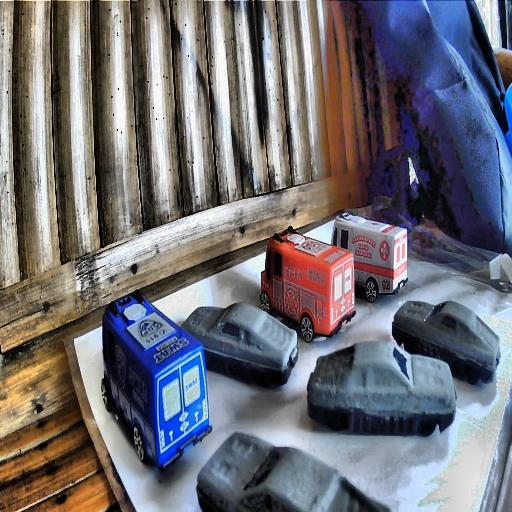ambulance: (332, 212, 408, 301)
fire_truck: (260, 226, 354, 342)
normal_car: (200, 431, 394, 512), (307, 340, 455, 436), (182, 302, 294, 390), (390, 300, 502, 387)
police car: (102, 286, 214, 468)
